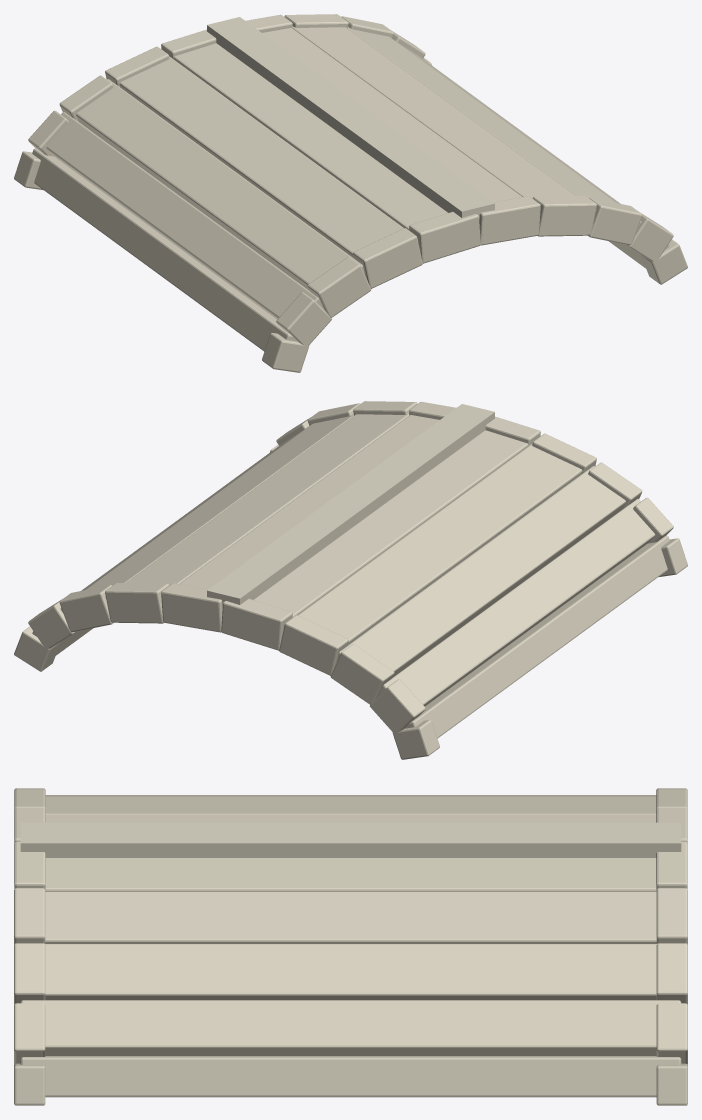
File: monastery_cloister_vault_section.glb
The picture shows the model from 3 angles, top to bottom: view 1: azimuth 30°, elevation 25°; view 2: azimuth 150°, elevation 25°; view 3: azimuth 270°, elevation 25°; orthographic projection. The views are drawn at different scales.
Visible parts, largest first — view 1: world; view 2: world; view 3: world.
Boxes of the visible parts, x1,y1,x2,y2 form: world: [14, 14, 687, 372]; world: [14, 401, 687, 759]; world: [14, 788, 687, 1105].
Size of the model in its own units: 1.84 by 0.5076 by 2.
